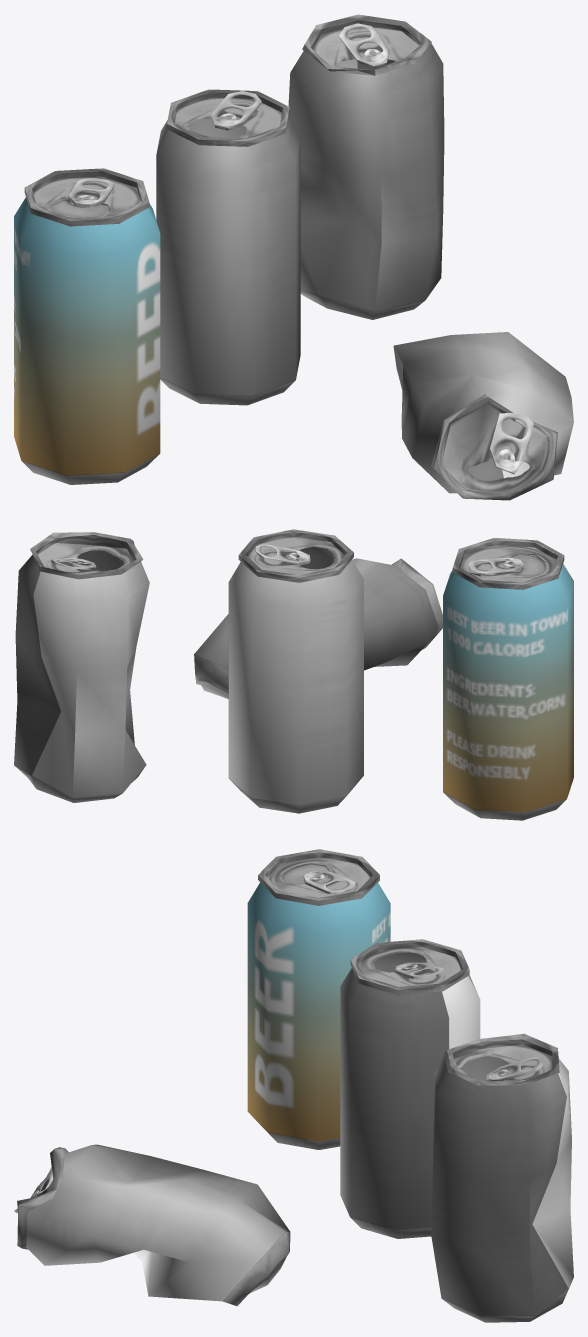
File: beer-cans.fbx
The picture shows the model from 3 angles, top to bottom: view 1: azimuth 30°, elevation 25°; view 2: azimuth 150°, elevation 25°; view 3: azimuth 270°, elevation 25°; orthographic projection. The views are drawn at different scales.
Parts seen in each view (by area): view 1: can-closed, can-open, can-open-crushed, can-open-crushed-01; view 2: can-open, can-closed, can-open-crushed, can-open-crushed-01; view 3: can-open-crushed, can-open, can-closed, can-open-crushed-01.
Boxes of the visible parts, x1,y1,x2,y2 form: can-closed: (14, 168, 160, 484); can-open: (156, 89, 300, 405); can-open-crushed: (288, 14, 444, 319); can-open-crushed-01: (393, 332, 573, 500); can-open: (228, 529, 363, 813); can-closed: (443, 538, 573, 820); can-open-crushed: (14, 532, 149, 802); can-open-crushed-01: (194, 558, 442, 699); can-open-crushed: (431, 1033, 573, 1322); can-open: (340, 939, 480, 1238); can-closed: (247, 849, 390, 1149); can-open-crushed-01: (14, 1144, 290, 1306).
Size of the model in its own units: 0.2457 by 0.1256 by 0.249.
